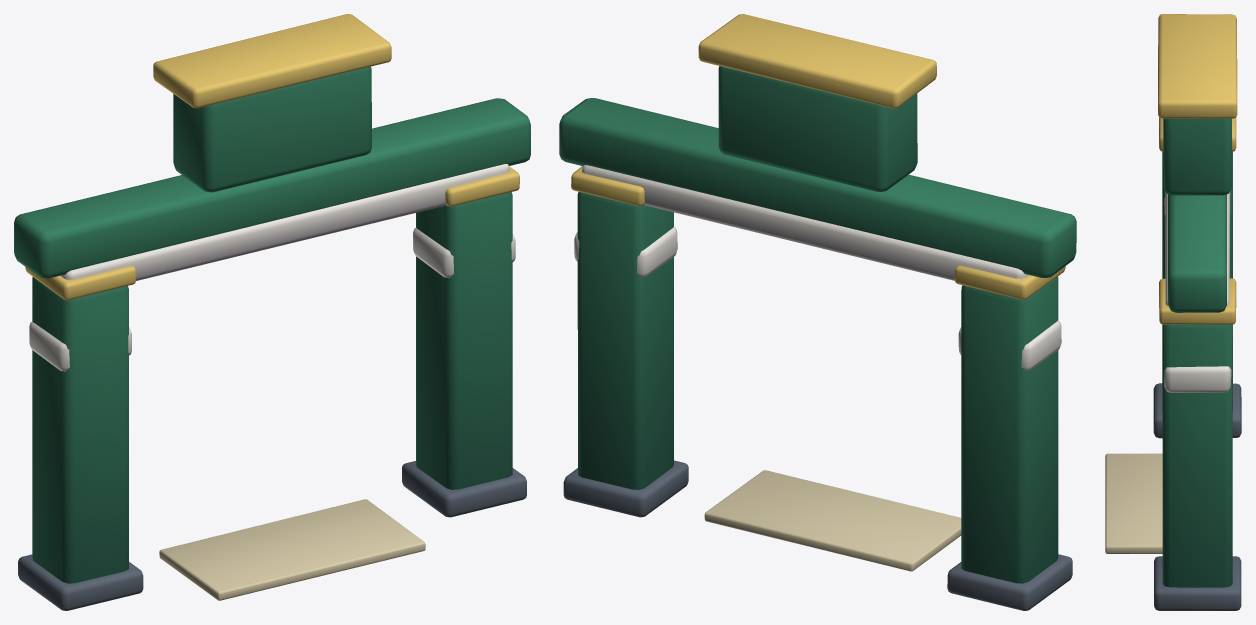
3 views of the same model, side by side, from view 1: azimuth 30°, elevation 25°; view 2: azimuth 150°, elevation 25°; view 3: azimuth 270°, elevation 25° (orthographic). The views are drawn at different scales.
Parts seen in each view (by area): view 1: gate_f8d4e948; view 2: gate_f8d4e948; view 3: gate_f8d4e948.
Part boxes in pixels (x1,y1,x2,y2): gate_f8d4e948: (14,14,530,610); gate_f8d4e948: (559,14,1076,610); gate_f8d4e948: (1105,14,1241,610).
Size of the model in its own units: 5.69 by 5.4 by 1.48.
